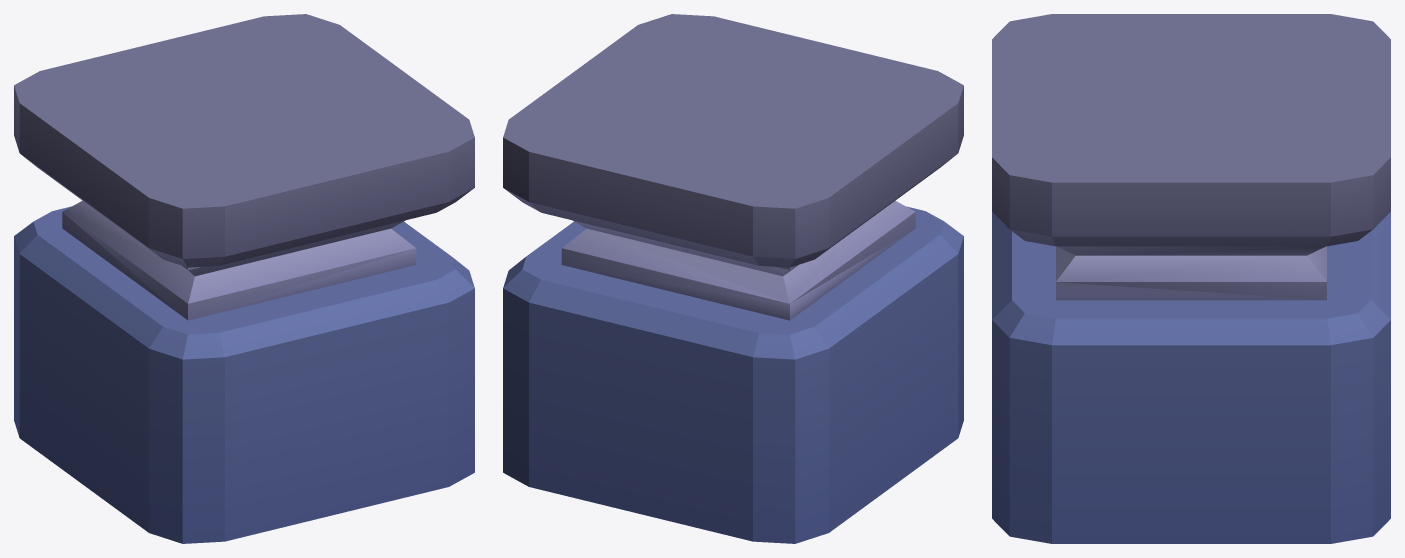
The model's file is sand2-piston-square-col.glb.
3 views of the same model, side by side, from view 1: azimuth 30°, elevation 25°; view 2: azimuth 150°, elevation 25°; view 3: azimuth 270°, elevation 25° (orthographic). The views are drawn at different scales.
Parts seen in each view (by area): view 1: sand2-piston-square-col; view 2: sand2-piston-square-col; view 3: sand2-piston-square-col.
Boxes of the visible parts, bbox=[...] form: sand2-piston-square-col: bbox=[14, 14, 474, 543]; sand2-piston-square-col: bbox=[503, 14, 963, 543]; sand2-piston-square-col: bbox=[992, 14, 1390, 543].
Size of the model in its own units: 2 by 2 by 2.
Materials: 1 (1 with a texture image).
